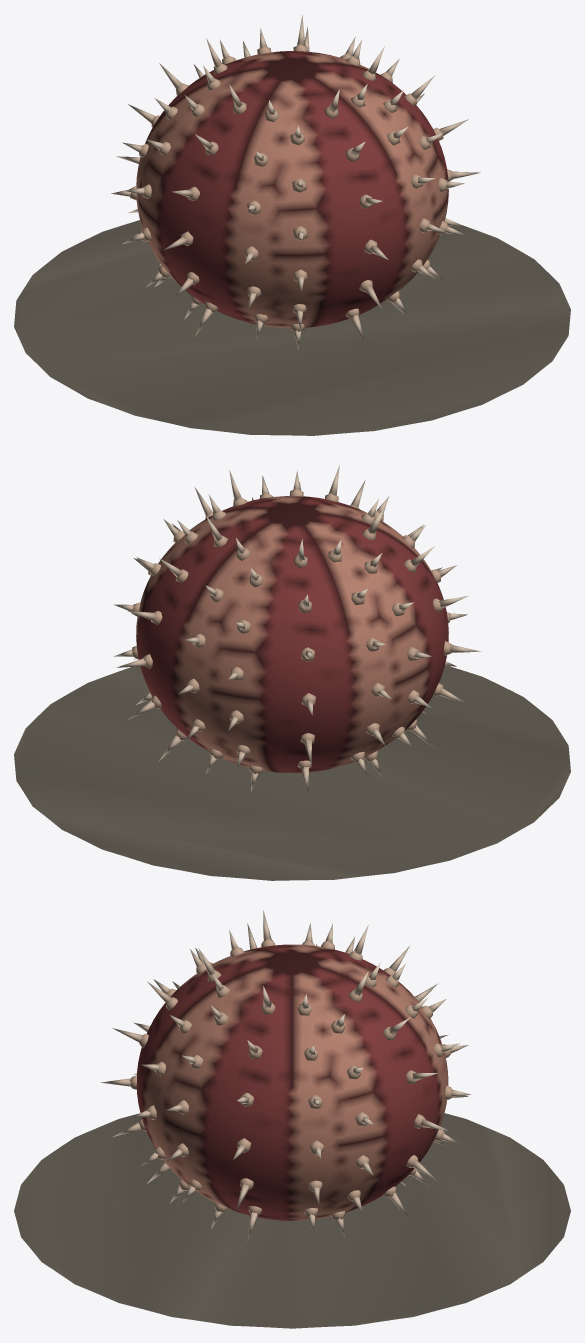
File: BothriocidarisPahleni.fbx
The picture shows the model from 3 angles, top to bottom: view 1: azimuth 30°, elevation 25°; view 2: azimuth 150°, elevation 25°; view 3: azimuth 270°, elevation 25°; orthographic projection.
Parts seen in each view (by area): view 1: BothriocidarisPahleni; view 2: BothriocidarisPahleni; view 3: BothriocidarisPahleni.
Boxes of the visible parts, x1,y1,x2,y2 form: BothriocidarisPahleni: (14, 15, 570, 435); BothriocidarisPahleni: (14, 465, 570, 880); BothriocidarisPahleni: (14, 910, 570, 1328).
Bounding box in the file's own units: 1.5 × 0.7836 × 1.5.
